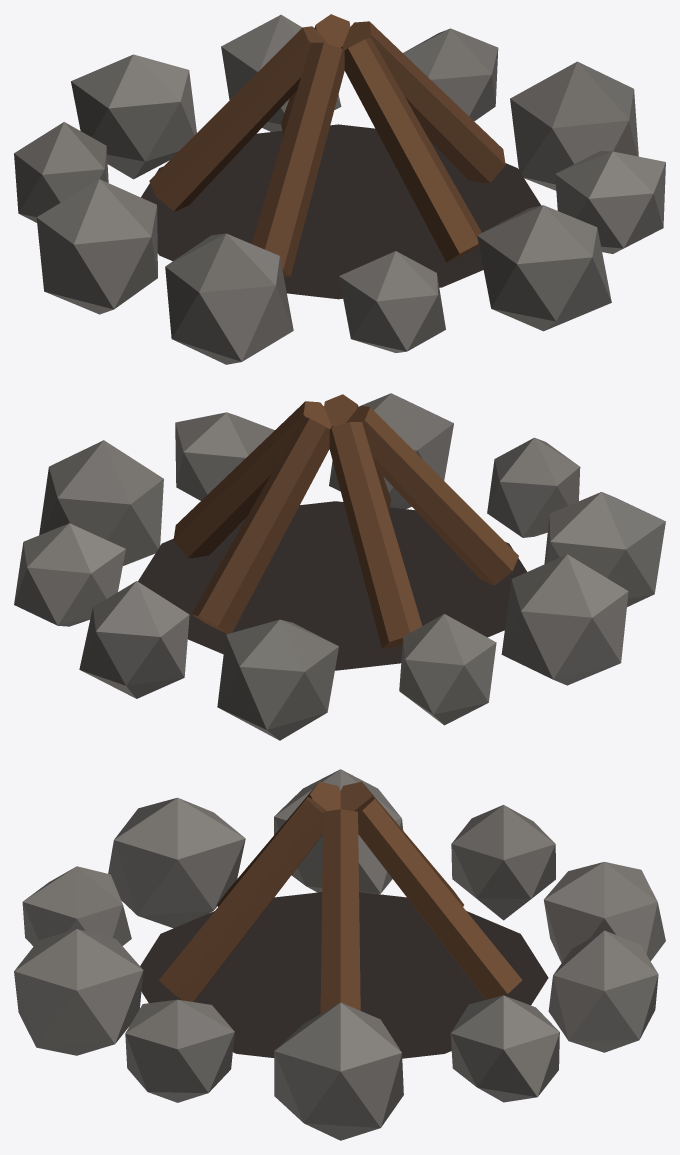
Rendered from campfire.glb.
The picture shows the model from 3 angles, top to bottom: view 1: azimuth 30°, elevation 25°; view 2: azimuth 150°, elevation 25°; view 3: azimuth 270°, elevation 25°; orthographic projection. The views are drawn at different scales.
Visible parts, largest first — view 1: campfire; view 2: campfire; view 3: campfire.
Boxes of the visible parts, box(x1,y1,x2,y2) form: campfire: box(14, 14, 665, 364); campfire: box(14, 393, 665, 740); campfire: box(14, 769, 665, 1140).
Bounding box in the file's own units: 4.94 × 1.84 × 4.7.
